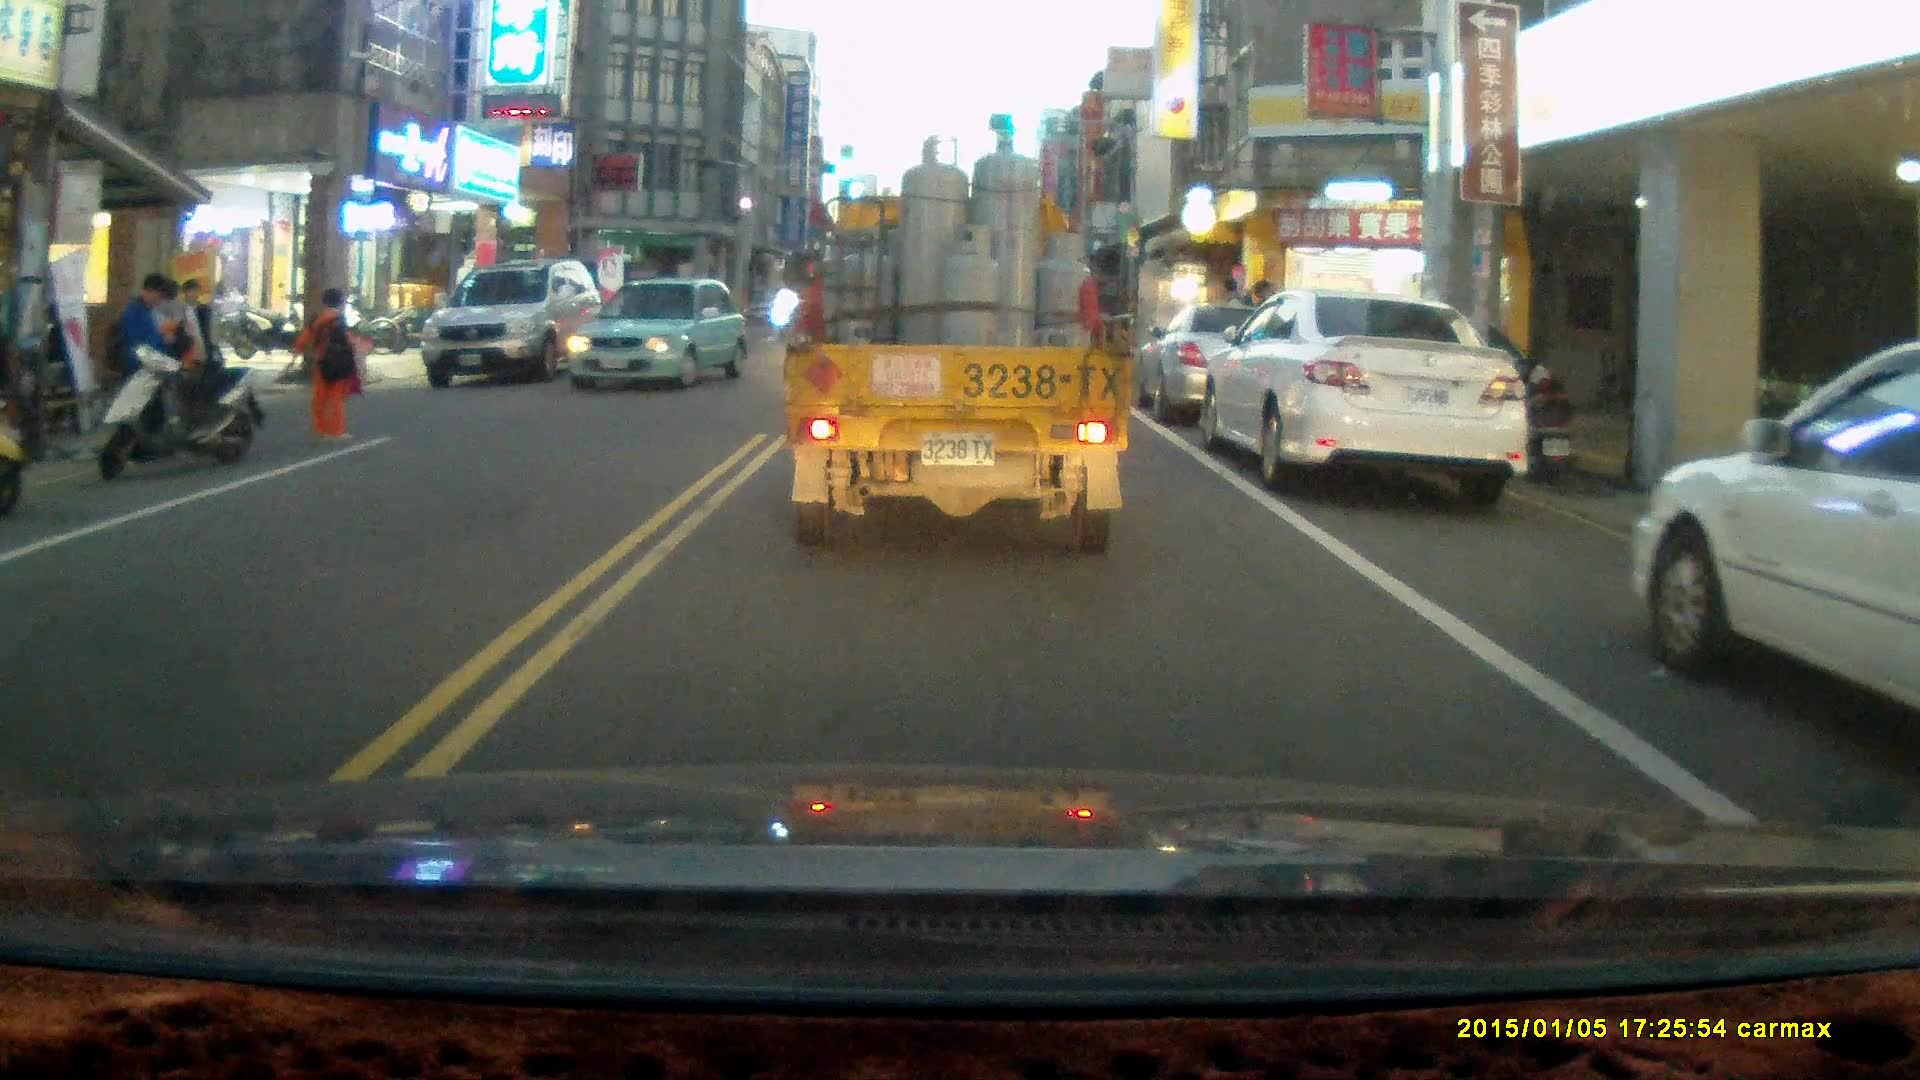pedestrian: (101, 271, 181, 456), (292, 284, 363, 440), (171, 277, 216, 409)
vehicle: (782, 126, 1140, 558), (1646, 339, 1920, 720), (1204, 285, 1531, 503), (1140, 299, 1375, 431), (426, 259, 607, 393), (564, 278, 753, 396)
